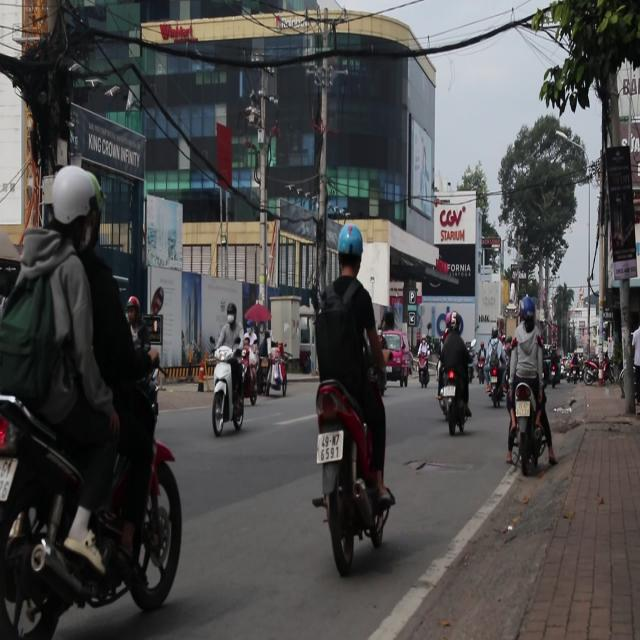motorbike: (0, 354, 185, 640), (308, 402, 401, 562), (502, 376, 556, 474), (208, 349, 247, 436), (439, 367, 475, 435), (242, 339, 260, 404), (417, 349, 429, 392), (570, 353, 586, 382)
truck: (381, 334, 412, 391)
